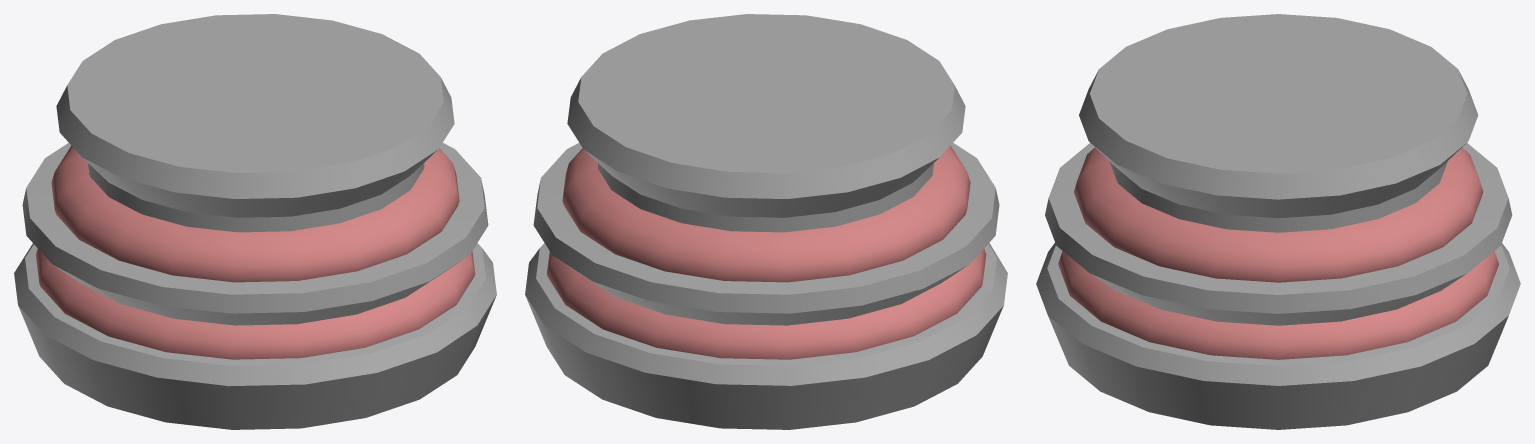
The model's file is CylinderHolder.fbx.
3 renders of one model, left to right at view 1: azimuth 30°, elevation 25°; view 2: azimuth 150°, elevation 25°; view 3: azimuth 270°, elevation 25°, orthographic.
Visible parts, largest first — view 1: pTorus2; view 2: pTorus2; view 3: pTorus2.
Part boxes in pixels (bbox=[...]): pTorus2: bbox=[14, 14, 496, 429]; pTorus2: bbox=[525, 14, 1007, 429]; pTorus2: bbox=[1036, 14, 1520, 429].
Size of the model in its own units: 10.99 by 6.08 by 10.99.
